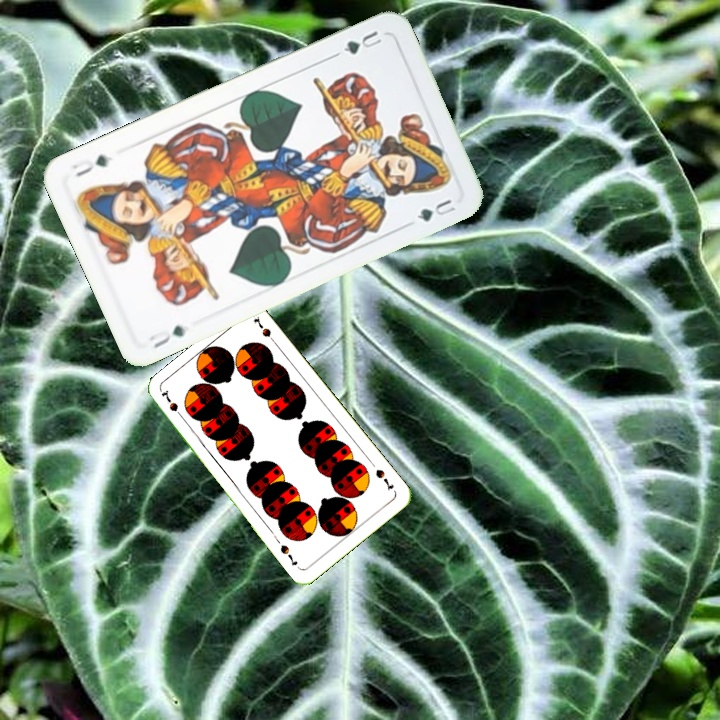GU: (339, 26, 385, 57), (145, 321, 189, 351)
S7: (158, 386, 187, 423), (371, 465, 396, 493)
